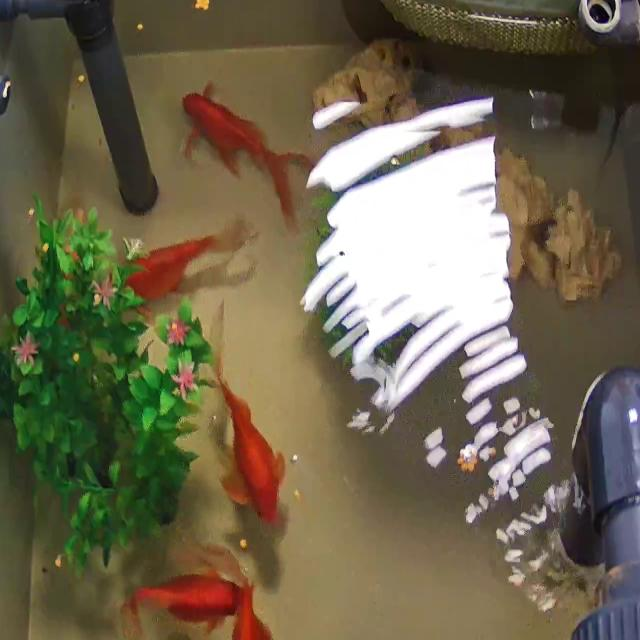fish: (182, 89, 312, 223), (209, 328, 286, 524), (116, 222, 254, 307), (119, 569, 245, 631), (228, 572, 282, 640)
